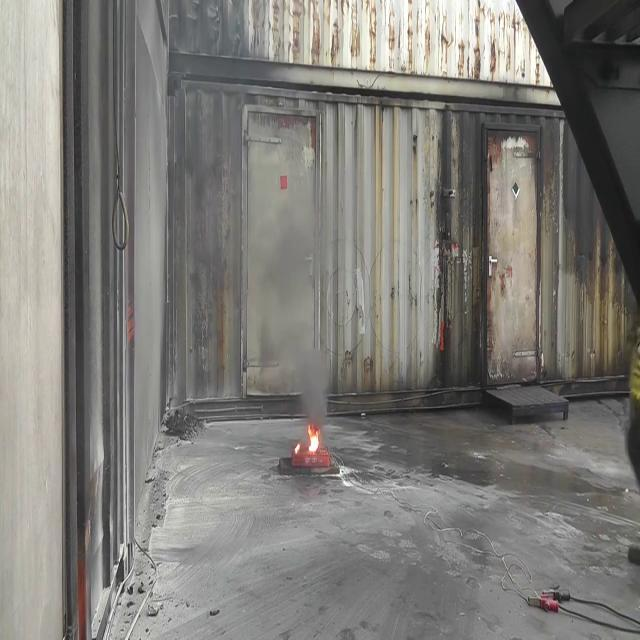Fire: (292, 417, 326, 465)
Smoke: (188, 125, 336, 412)
